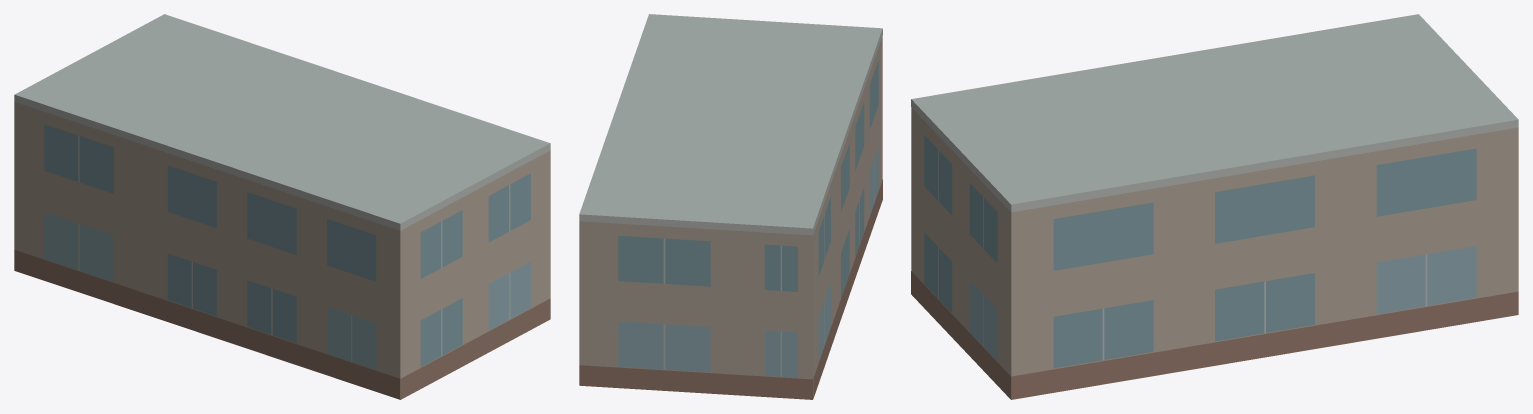
File: survey-upis-32698445.glb
The picture shows the model from 3 angles, left to right: view 1: azimuth 30°, elevation 25°; view 2: azimuth 150°, elevation 25°; view 3: azimuth 270°, elevation 25°; orthographic projection. The views are drawn at different scales.
Parts seen in each view (by area): view 1: survey-upis-32698445.tmp; view 2: survey-upis-32698445.tmp; view 3: survey-upis-32698445.tmp.
Part boxes in pixels (left/top/right/bottom): survey-upis-32698445.tmp: left=14, top=14, right=550, bottom=399; survey-upis-32698445.tmp: left=579, top=14, right=882, bottom=399; survey-upis-32698445.tmp: left=911, top=14, right=1518, bottom=399.
Bounding box in the file's own units: 12.79 × 6.1 × 17.21.
